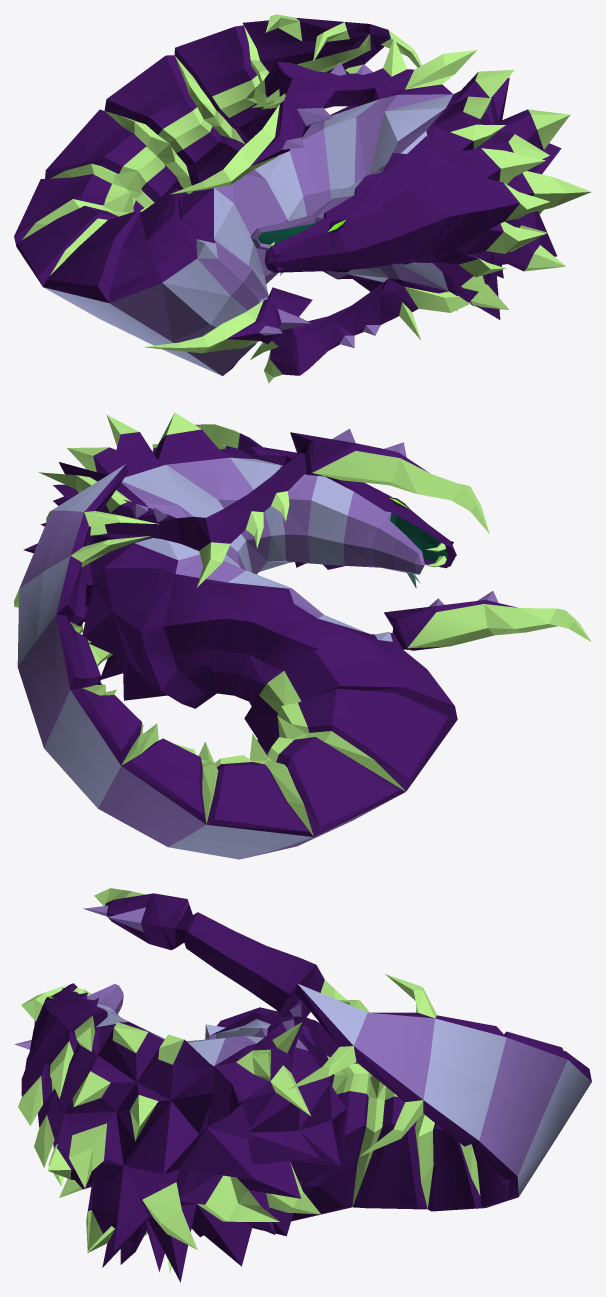
The picture shows the model from 3 angles, top to bottom: view 1: azimuth 30°, elevation 25°; view 2: azimuth 150°, elevation 25°; view 3: azimuth 270°, elevation 25°; orthographic projection. The views are drawn at different scales.
Parts seen in each view (by area): view 1: Alien_Serpent; view 2: Alien_Serpent; view 3: Alien_Serpent.
Boxes of the visible parts, x1,y1,x2,y2 form: Alien_Serpent: [14, 14, 591, 383]; Alien_Serpent: [14, 412, 591, 859]; Alien_Serpent: [14, 888, 591, 1282].
Size of the model in its own units: 238 by 157 by 235.
1 material, 1 textured.
